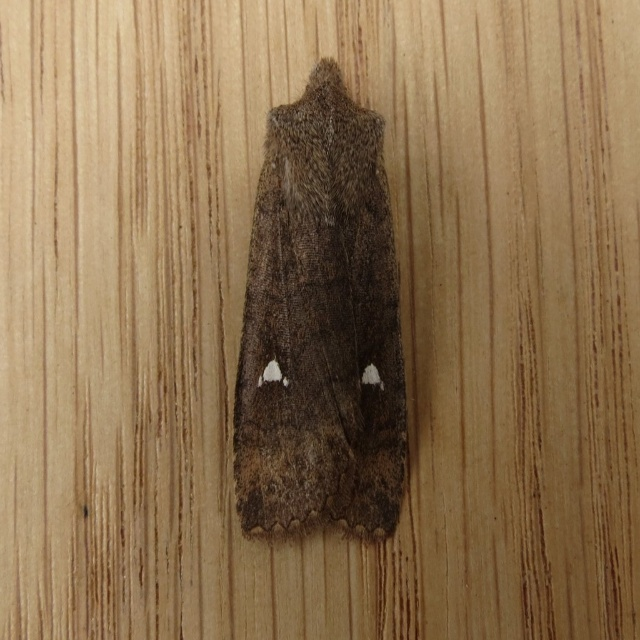Moths and butterflies: (232, 53, 407, 553)
